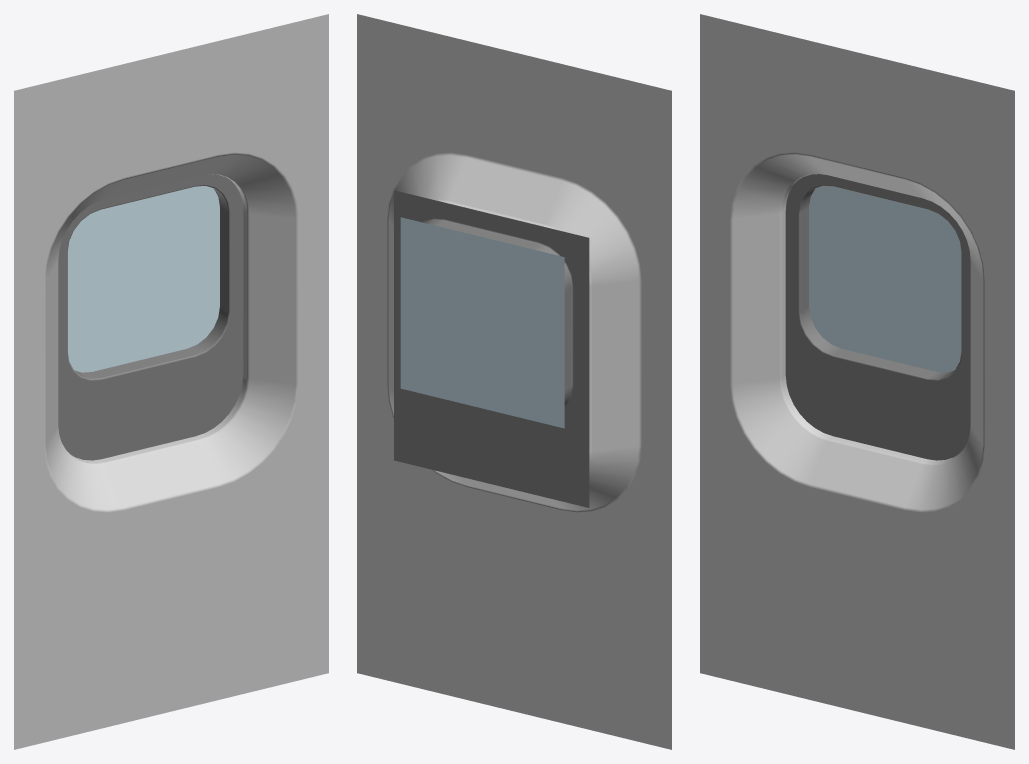
Rendered from ApartmentExteriorWindowMedium02.fbx.
3 views of the same model, side by side, from view 1: azimuth 30°, elevation 25°; view 2: azimuth 150°, elevation 25°; view 3: azimuth 330°, elevation 25° (orthographic).
Parts seen in each view (by area): view 1: ApartmentExteriorWindowMedium02; view 2: ApartmentExteriorWindowMedium02; view 3: ApartmentExteriorWindowMedium02.
Boxes of the visible parts, x1,y1,x2,y2 form: ApartmentExteriorWindowMedium02: [14, 14, 328, 749]; ApartmentExteriorWindowMedium02: [357, 14, 671, 749]; ApartmentExteriorWindowMedium02: [700, 14, 1014, 749].
Bounding box in the file's own units: 200 × 400 × 35.
